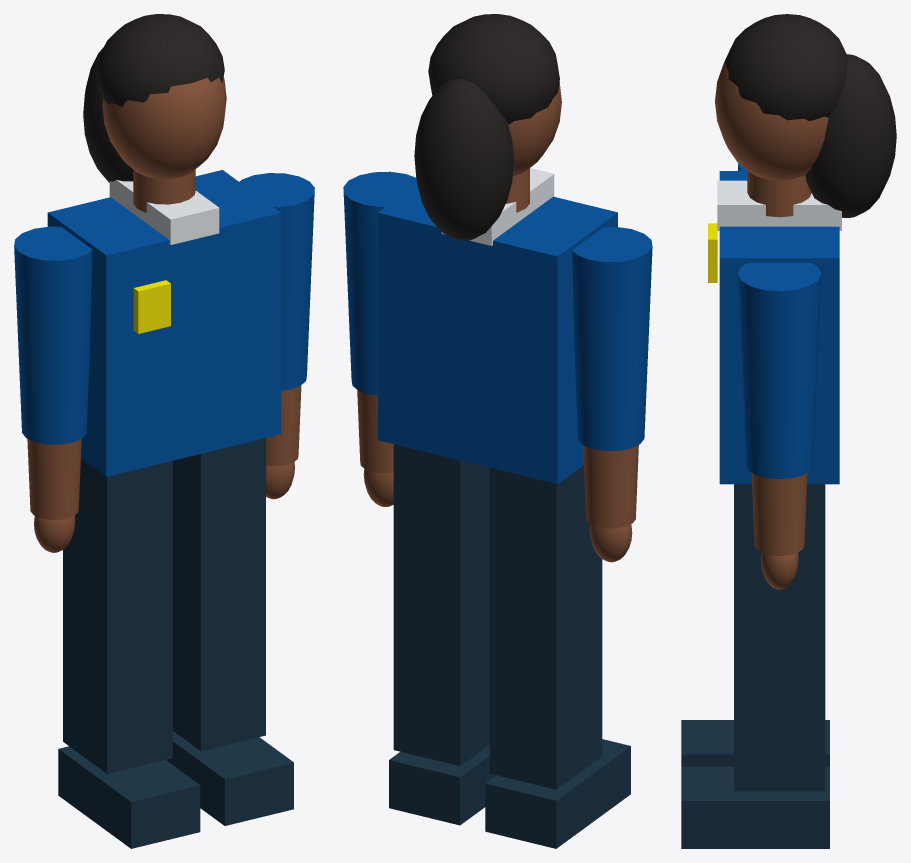
Rendered from team-woman.glb.
3 views of the same model, side by side, from view 1: azimuth 30°, elevation 25°; view 2: azimuth 150°, elevation 25°; view 3: azimuth 270°, elevation 25° (orthographic). The views are drawn at different scales.
Visible parts, largest first — view 1: Trousers (×2), Shirt, Sleeve (×2), Shoe (×2), Head, Hair, Forearm (×2), Collar, HairBack, Hand (×2), Badge, Neck; view 2: Trousers (×2), Shirt, Sleeve (×2), Shoe (×2), HairBack, Hair, Forearm (×2), Head, Hand (×2), Collar, Neck; view 3: Trousers, Sleeve, Shirt, Shoe (×2), Hair, HairBack, Head, Forearm, Collar, Neck, Hand, Badge.
Boxes of the visible parts, left/top/right/bottom form: Trousers (×2): left=63, top=438, right=265, bottom=773; Shirt: left=47, top=170, right=281, bottom=476; Sleeve (×2): left=14, top=173, right=314, bottom=444; Shoe (×2): left=58, top=731, right=293, bottom=848; Head: left=102, top=77, right=226, bottom=179; Hair: left=96, top=14, right=224, bottom=106; Forearm (×2): left=27, top=385, right=301, bottom=519; Collar: left=109, top=180, right=219, bottom=244; HairBack: left=83, top=47, right=133, bottom=182; Hand (×2): left=34, top=462, right=294, bottom=552; Badge: left=133, top=280, right=170, bottom=333; Neck: left=133, top=169, right=195, bottom=212; Trousers (×2): left=393, top=444, right=602, bottom=789; Shirt: left=378, top=184, right=617, bottom=483; Sleeve (×2): left=343, top=171, right=652, bottom=451; Shoe (×2): left=389, top=739, right=630, bottom=848; HairBack: left=414, top=78, right=513, bottom=240; Hair: left=428, top=14, right=559, bottom=124; Forearm (×2): left=357, top=390, right=638, bottom=528; Head: left=508, top=82, right=561, bottom=176; Hand (×2): left=363, top=469, right=632, bottom=562; Collar: left=441, top=168, right=554, bottom=245; Neck: left=506, top=168, right=529, bottom=212; Trousers: left=734, top=484, right=825, bottom=791; Sleeve: left=738, top=262, right=821, bottom=479; Shirt: left=719, top=171, right=839, bottom=484; Shoe (×2): left=681, top=720, right=829, bottom=848; Hair: left=724, top=14, right=847, bottom=121; HairBack: left=805, top=54, right=896, bottom=217; Head: left=715, top=62, right=828, bottom=180; Forearm: left=751, top=472, right=807, bottom=555; Collar: left=717, top=180, right=841, bottom=230; Neck: left=747, top=170, right=811, bottom=217; Hand: left=760, top=552, right=798, bottom=589; Badge: left=708, top=223, right=717, bottom=282.
Size of the model in its own units: 0.714 by 1.81 by 0.449.
